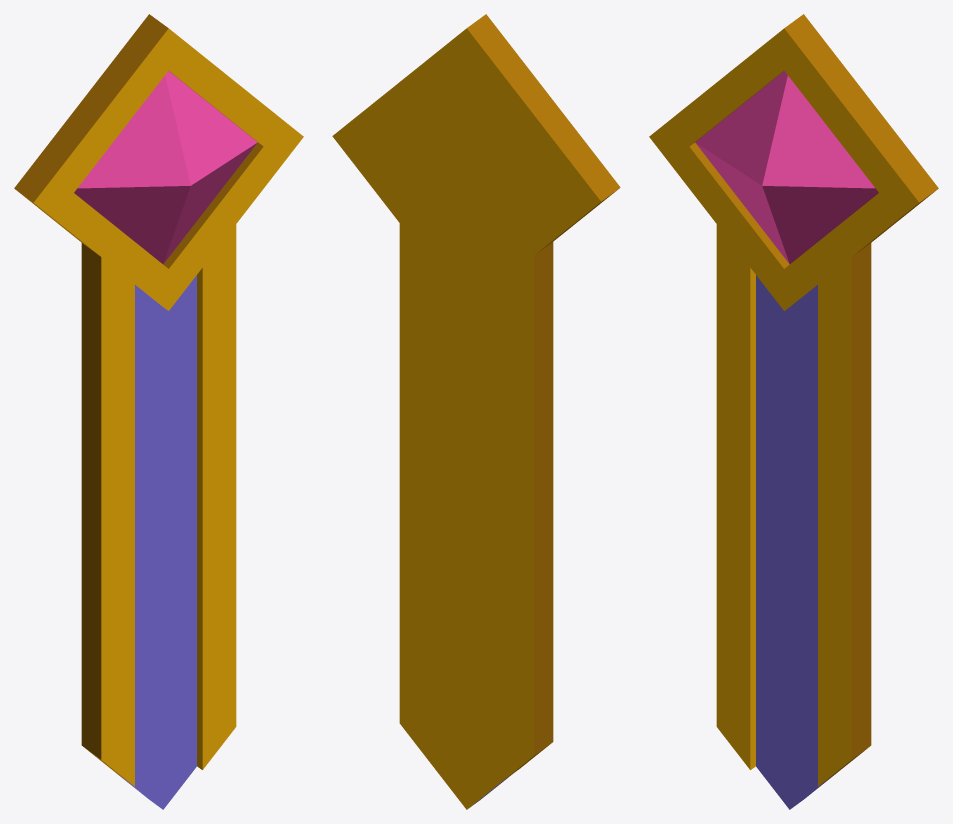
Rendered from Ornament_01.glb.
3 views of the same model, side by side, from view 1: azimuth 30°, elevation 25°; view 2: azimuth 150°, elevation 25°; view 3: azimuth 330°, elevation 25° (orthographic).
Visible parts, largest first — view 1: Ornament_01; view 2: Ornament_01; view 3: Ornament_01.
Boxes of the visible parts, left/top/right/bottom form: Ornament_01: left=14, top=14, right=303, bottom=809; Ornament_01: left=332, top=14, right=620, bottom=809; Ornament_01: left=649, top=14, right=938, bottom=809.
Size of what is drawn, in the model's own units: 0.3363 by 0.934 by 0.0896.
Materials: 1 (1 with a texture image).
